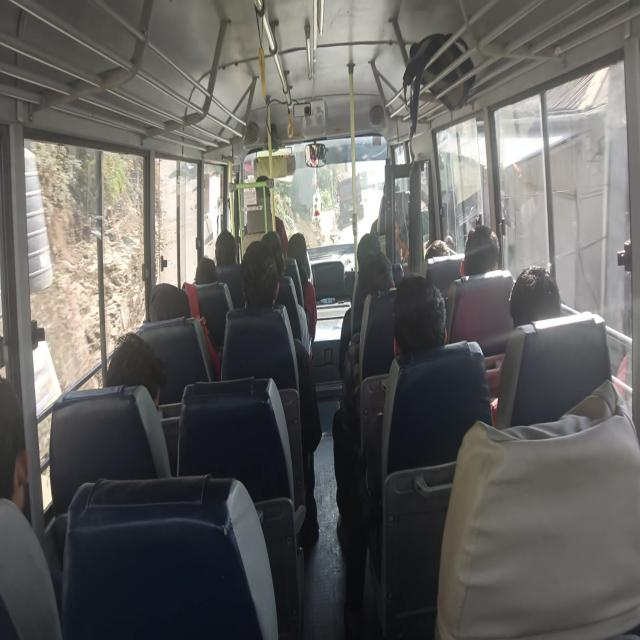person: (434, 377, 639, 638), (336, 274, 448, 634), (232, 240, 322, 544), (362, 274, 448, 501), (0, 375, 62, 638), (488, 264, 562, 425), (445, 225, 513, 346), (260, 230, 312, 358), (106, 331, 168, 411), (286, 232, 317, 344), (509, 264, 562, 328), (461, 225, 500, 276), (149, 282, 191, 322), (214, 229, 238, 267), (194, 256, 217, 284), (425, 239, 454, 259)
